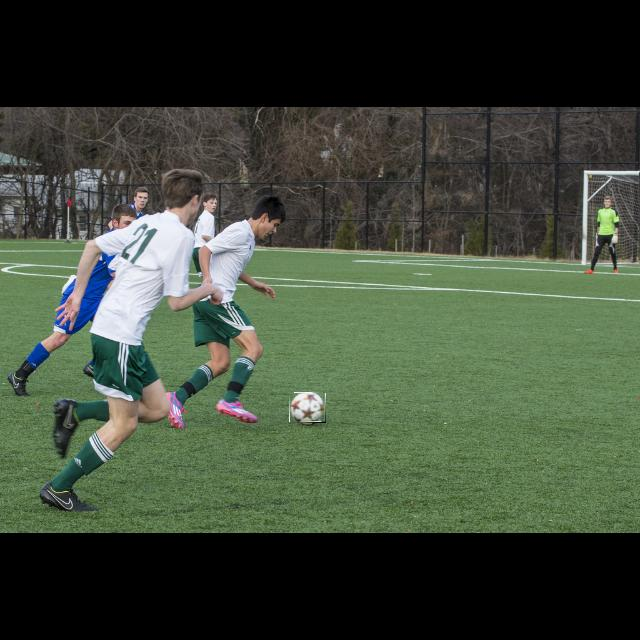Football: (290, 393, 326, 423)
